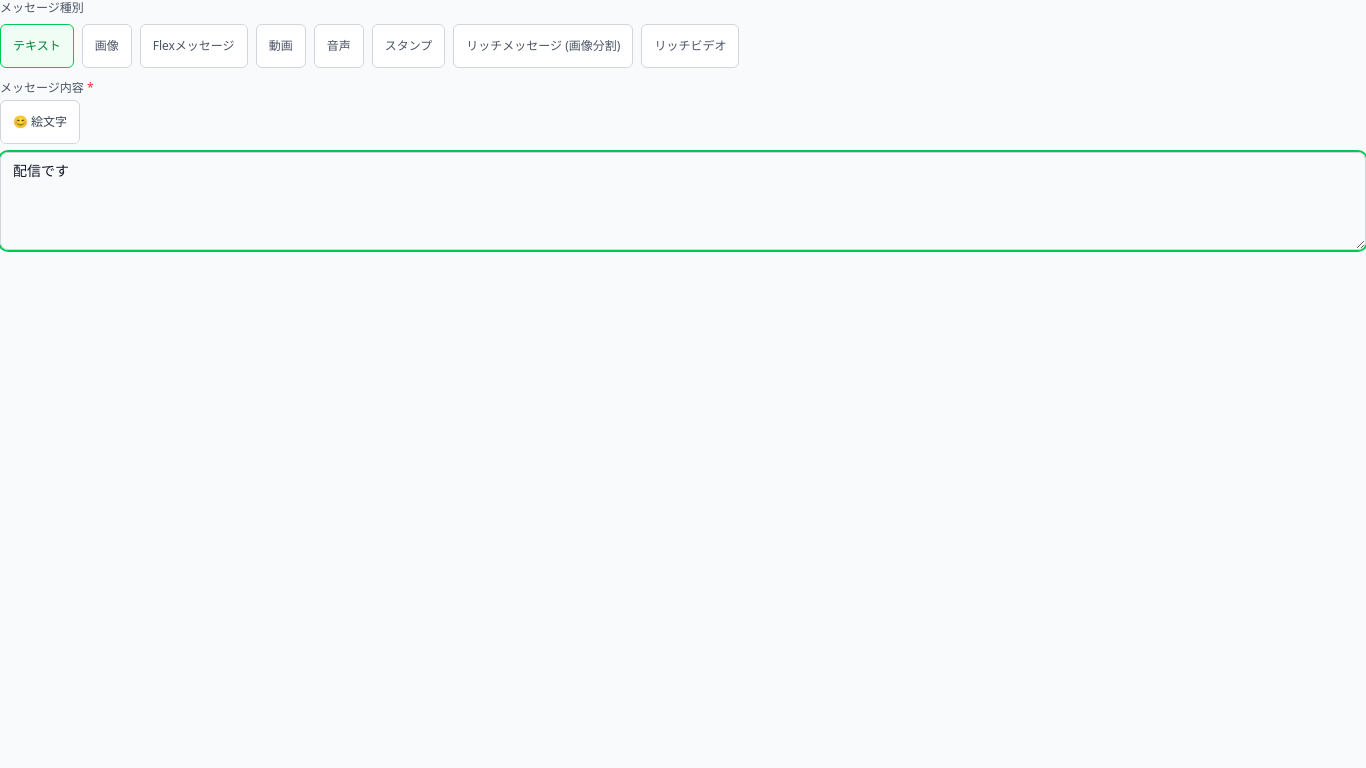
Test case: 一斉配信のテキスト入力 › 絵文字ボタンをタップすると現在のカーソル位置へ挿入する
Click the button "😊 絵文字" at (40, 122), box [0,100,80,144]
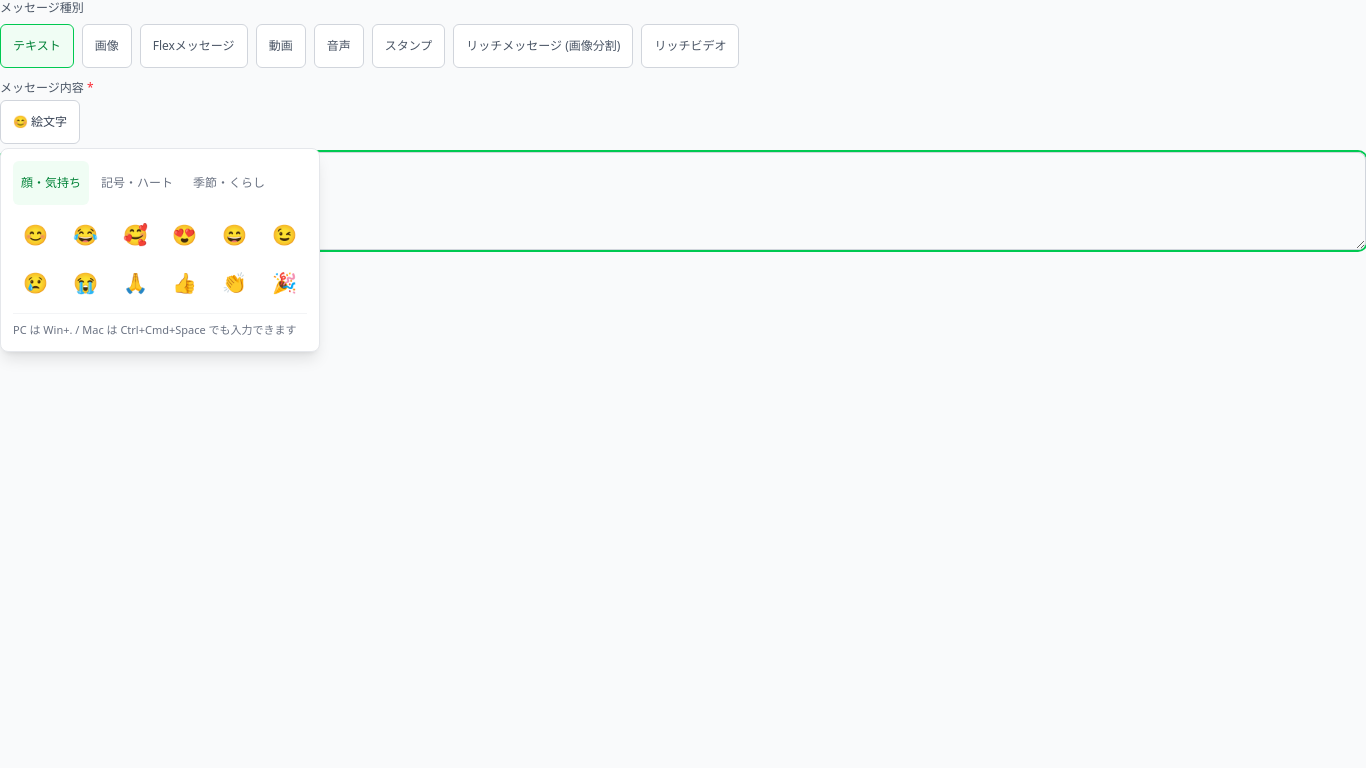
Click the button named "絵文字 🎉 を挿入" at (284, 283), box [261,261,307,305]
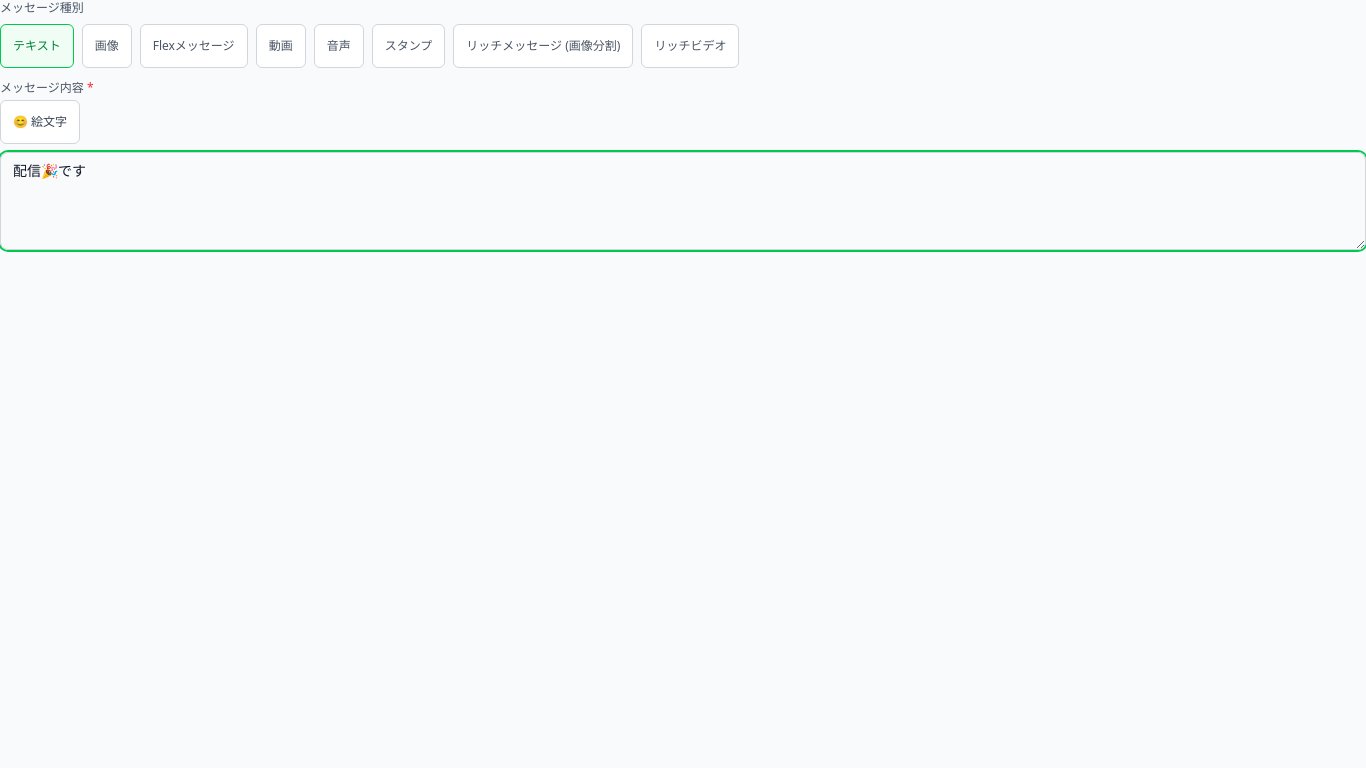
Expected: the text box named "配信メッセージ内容" holds "配信🎉です", [0,152,1365,250]
